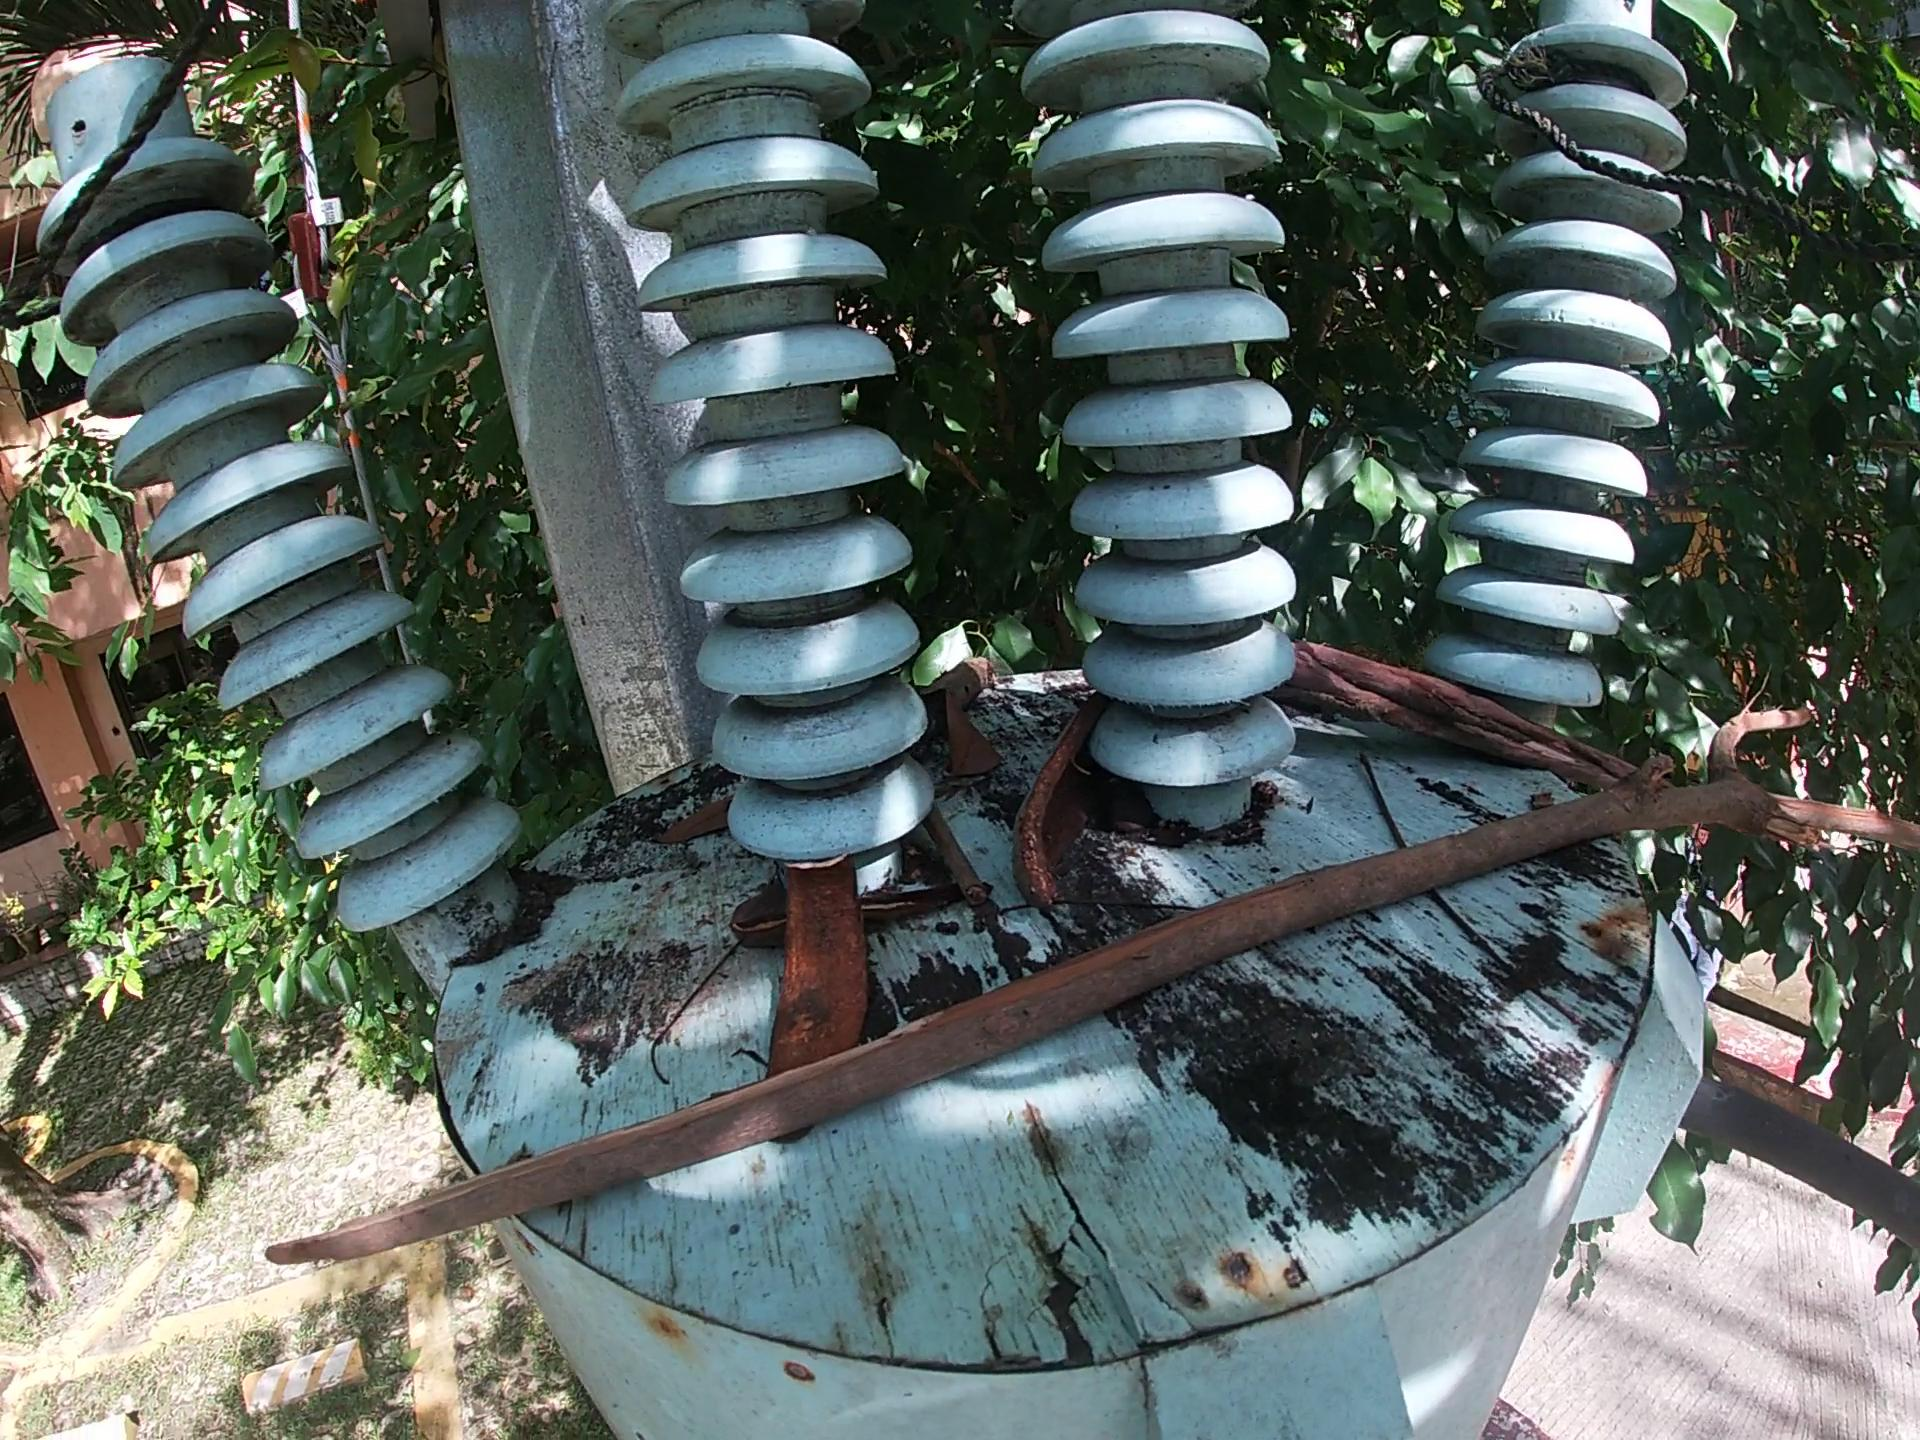leaf: (937, 676, 993, 784), (633, 806, 735, 856), (721, 877, 785, 926)
mahogany fruit: (763, 849, 860, 1078), (1002, 700, 1105, 911)
tree branch: (317, 678, 1920, 1321), (1274, 643, 1657, 793), (644, 933, 738, 1103), (1429, 886, 1538, 1000), (1349, 746, 1420, 850), (927, 806, 987, 908), (998, 892, 1209, 918), (927, 646, 998, 715), (866, 886, 962, 926)
